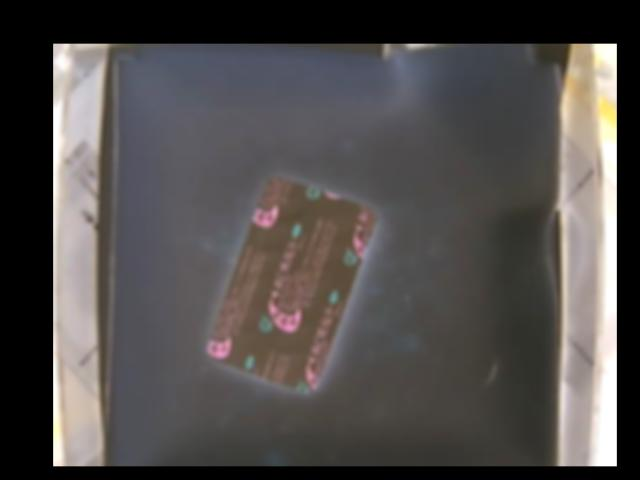Medicine: (205, 174, 376, 391)
